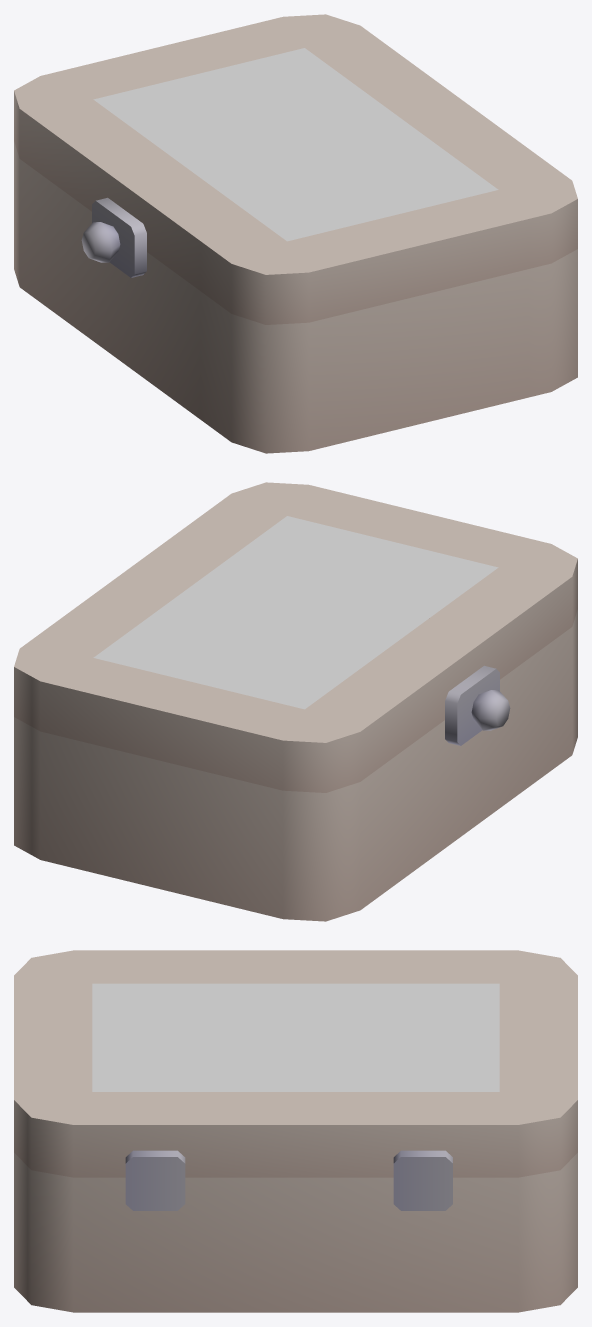
File: tea-box-closed.glb
3 renders of one model, top to bottom at view 1: azimuth 30°, elevation 25°; view 2: azimuth 150°, elevation 25°; view 3: azimuth 270°, elevation 25°, orthographic. The views are drawn at different scales.
Parts seen in each view (by area): view 1: tea-box-closed; view 2: tea-box-closed; view 3: tea-box-closed.
Boxes of the visible parts, box(x1,y1,x2,y2) form: tea-box-closed: box(14, 14, 577, 453); tea-box-closed: box(14, 482, 577, 921); tea-box-closed: box(14, 950, 577, 1312).
Size of the model in its own units: 0.2977 by 0.1303 by 0.3552.
